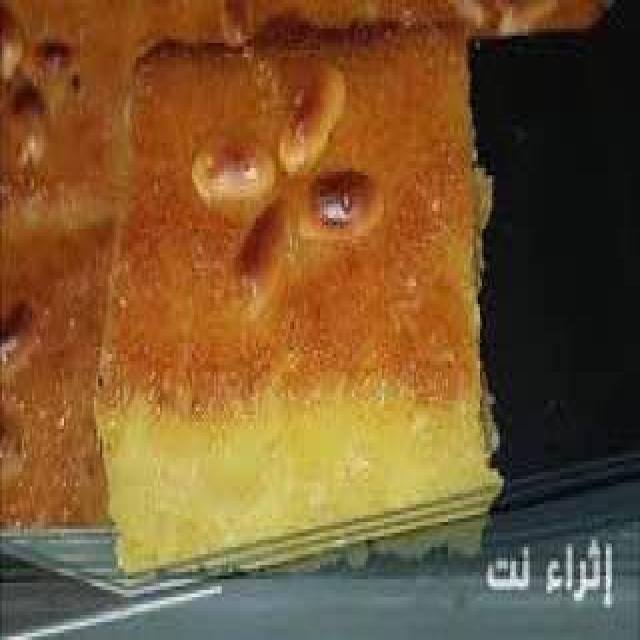pasposa: (0, 0, 628, 579)
